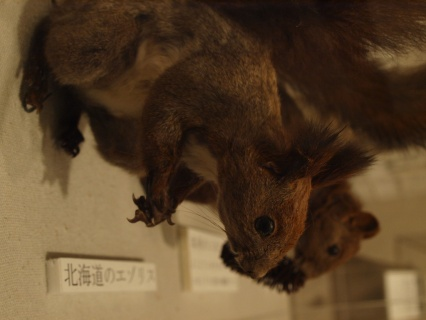Squirrel: (18, 0, 426, 295)
